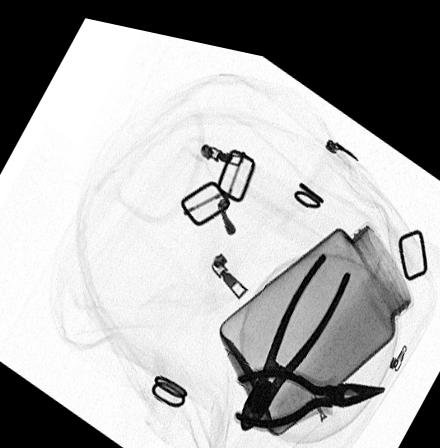Pliers: (237, 239, 351, 423), (229, 353, 388, 417)
